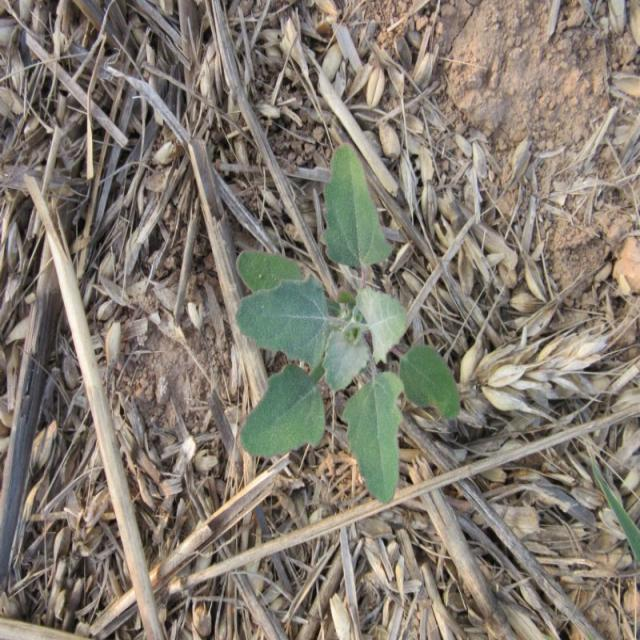ca: (237, 153, 460, 502)
